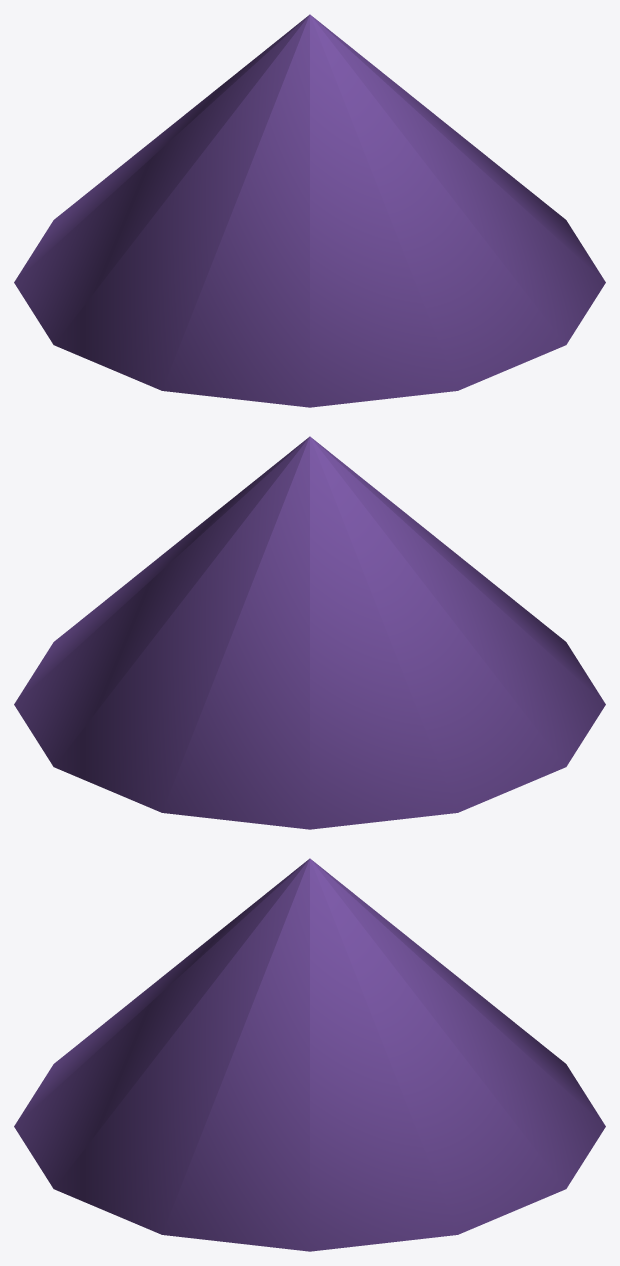
File: lantern_arrow.glb
3 views of the same model, one above another, from view 1: azimuth 30°, elevation 25°; view 2: azimuth 150°, elevation 25°; view 3: azimuth 270°, elevation 25° (orthographic).
Parts seen in each view (by area): view 1: effect; view 2: effect; view 3: effect.
Part boxes in pixels (x1,y1,x2,y2): effect: [14, 14, 605, 407]; effect: [14, 436, 605, 829]; effect: [14, 858, 605, 1251].
Size of the model in its own units: 2 by 1 by 2.
